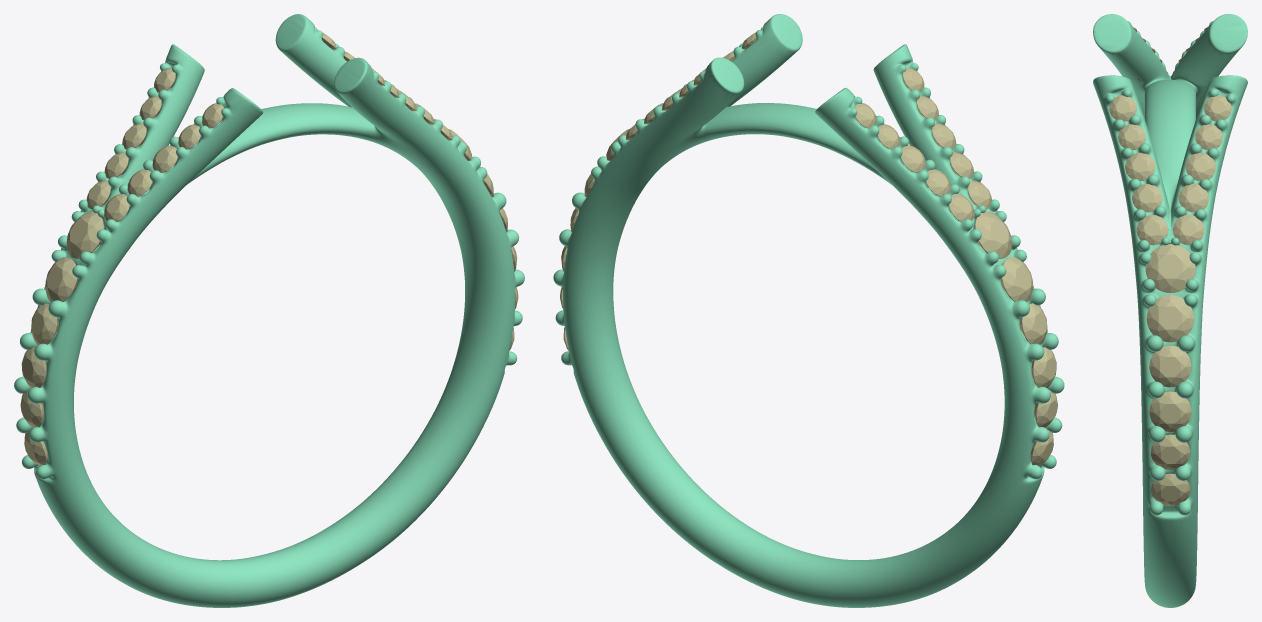
The picture shows the model from 3 angles, left to right: view 1: azimuth 30°, elevation 25°; view 2: azimuth 150°, elevation 25°; view 3: azimuth 270°, elevation 25°; orthographic projection.
Parts seen in each view (by area): view 1: Metal02, Diamond_Gem.008, Diamond_Gem.007, Diamond_Gem.006, Diamond_Gem.009; view 2: Metal02, Diamond_Gem.008, Diamond_Gem.007, Diamond_Gem.006, Diamond_Gem.009; view 3: Metal02, Diamond_Gem.003, Diamond_Gem.004, Diamond_Gem.005, Diamond_Gem.002, Diamond_Gem, Diamond_Gem.001, Diamond_Gem.027, Diamond_Gem.026, Diamond_Gem.024, Diamond_Gem.028, Diamond_Gem.025 (+5 smaller).
Boxes of the visible parts, x1,y1,x2,y2 form: Metal02: [14, 14, 524, 607]; Diamond_Gem.008: [66, 211, 103, 259]; Diamond_Gem.007: [45, 257, 77, 302]; Diamond_Gem.006: [31, 303, 58, 344]; Diamond_Gem.009: [21, 347, 46, 388]; Metal02: [553, 14, 1064, 607]; Diamond_Gem.008: [974, 211, 1011, 258]; Diamond_Gem.007: [1001, 257, 1033, 301]; Diamond_Gem.006: [1019, 303, 1047, 344]; Diamond_Gem.009: [1031, 347, 1056, 388]; Metal02: [1093, 14, 1247, 607]; Diamond_Gem.003: [1145, 244, 1195, 293]; Diamond_Gem.004: [1146, 295, 1193, 342]; Diamond_Gem.005: [1149, 345, 1191, 387]; Diamond_Gem.002: [1149, 391, 1191, 431]; Diamond_Gem: [1150, 434, 1190, 470]; Diamond_Gem.001: [1151, 473, 1190, 506]; Diamond_Gem.027: [1136, 215, 1168, 245]; Diamond_Gem.026: [1172, 215, 1204, 245]; Diamond_Gem.024: [1185, 152, 1215, 181]; Diamond_Gem.028: [1132, 184, 1162, 212]; Diamond_Gem.025: [1178, 184, 1208, 212].
Bounding box in the file's own units: 21.37 × 22.55 × 5.89.
